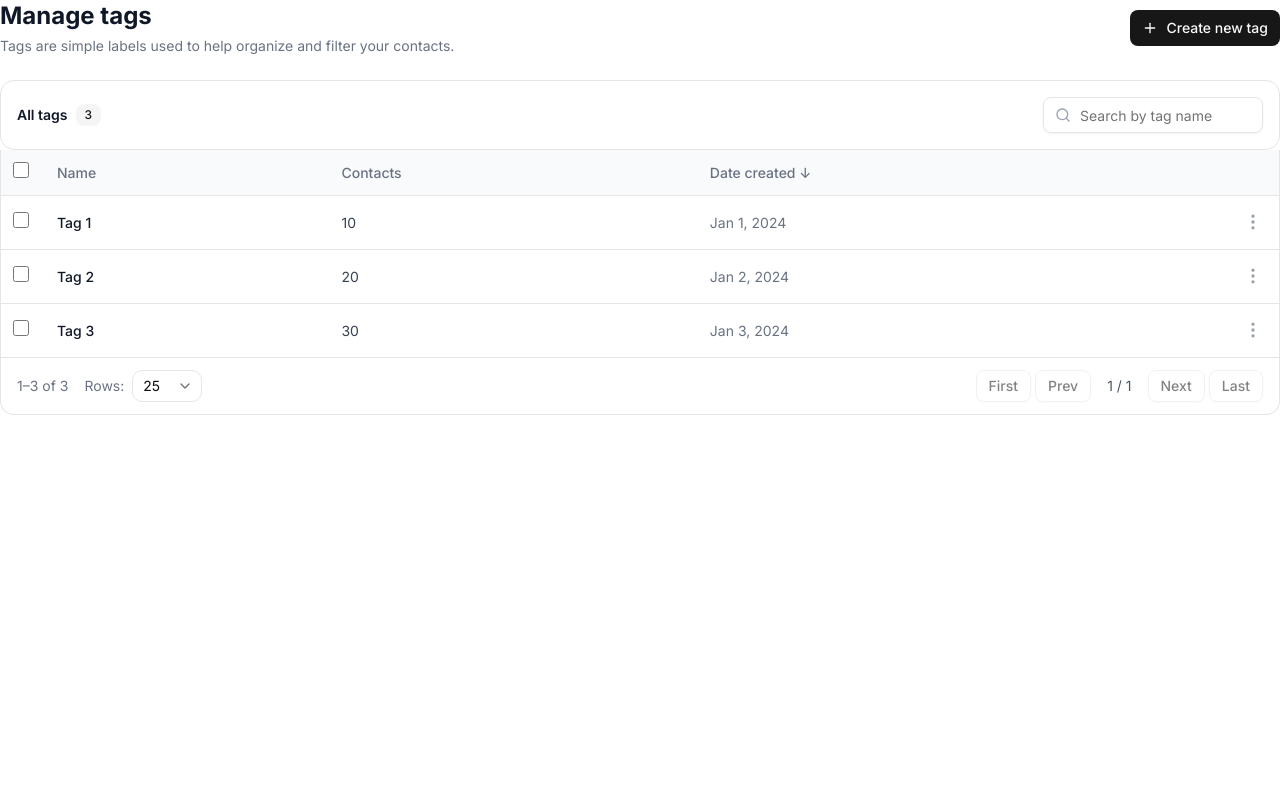
TagsManager › opens rename dialog via action menu
Step 1. Click the button without text in the row of "Tag 1" → (1253, 222), box [1239,208,1267,236]
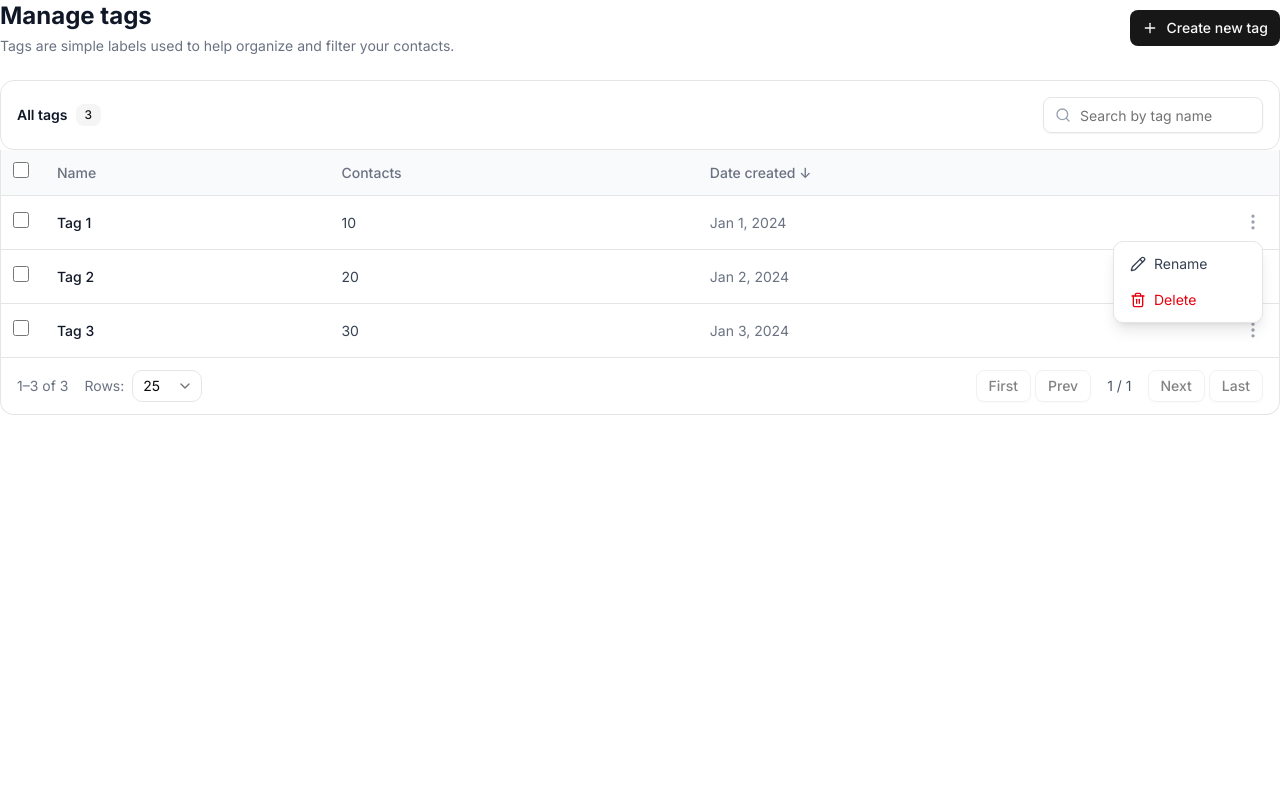
Step 2. Click the button "Rename" → (1188, 264), box [1114,246,1262,282]
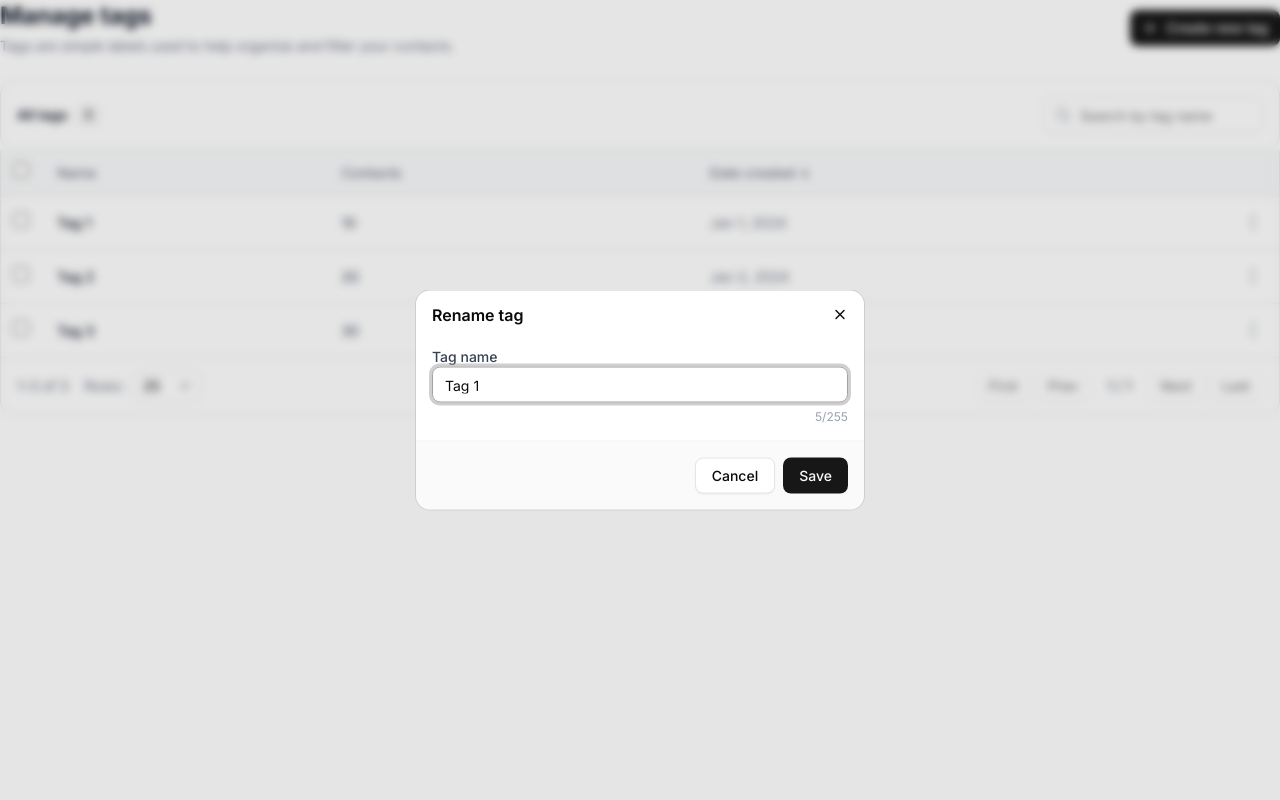
Result: the heading "Rename tag" is shown at [432,304,524,324]
